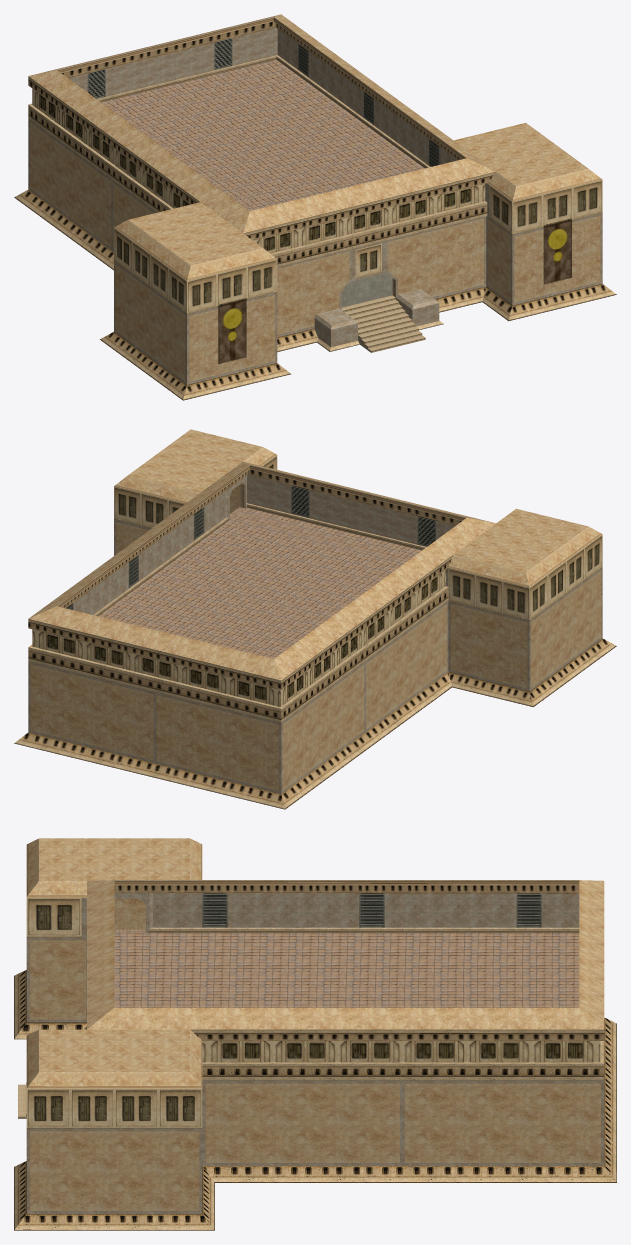
The model's file is ply_tato_assoc_hall_civ_s01_l1.fbx.
3 renders of one model, top to bottom at view 1: azimuth 30°, elevation 25°; view 2: azimuth 150°, elevation 25°; view 3: azimuth 270°, elevation 25°, orthographic. The views are drawn at different scales.
Visible parts, largest first — view 1: mesh_node; view 2: mesh_node; view 3: mesh_node.
Boxes of the visible parts, x1,y1,x2,y2 form: mesh_node: [14, 14, 616, 400]; mesh_node: [14, 429, 616, 809]; mesh_node: [14, 838, 616, 1230].
Size of the model in its own units: 48 by 14 by 48.
